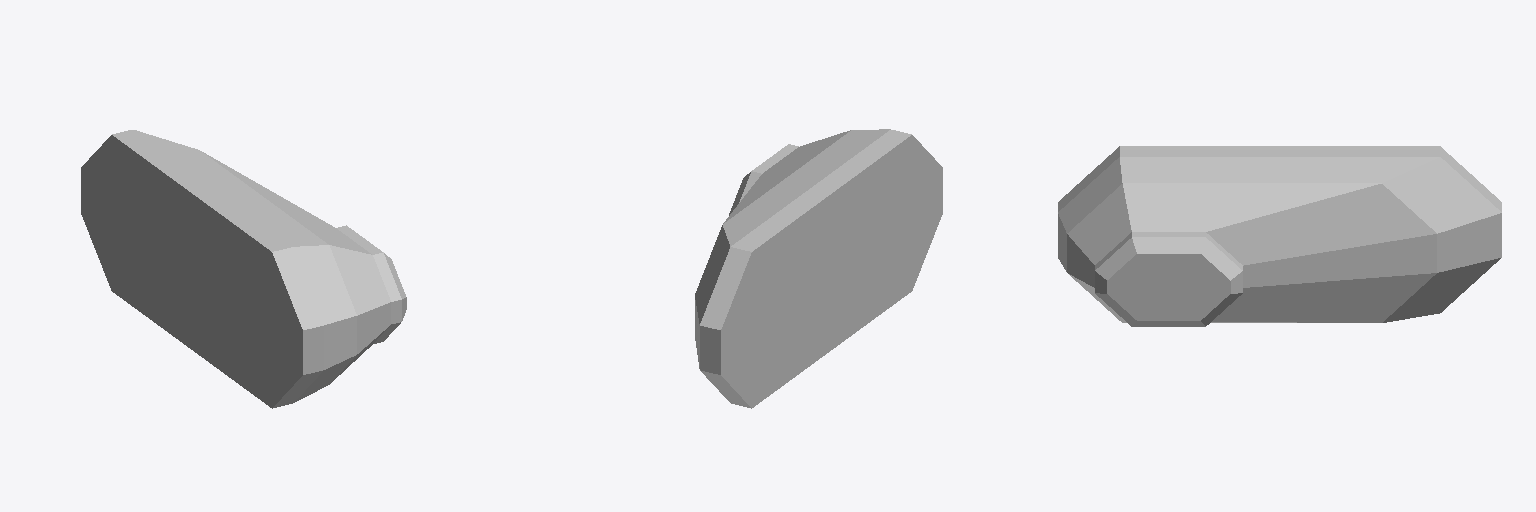
File: Spacestation_Structure_Rod_Housing_Long_Forward.obj
3 views of the same model, side by side, from view 1: azimuth 30°, elevation 25°; view 2: azimuth 150°, elevation 25°; view 3: azimuth 270°, elevation 25° (orthographic).
Visible parts, largest first — view 1: object2, object1; view 2: object2, object1; view 3: object2, object1.
Boxes of the visible parts, box(x1,y1,x2,y2) form: object2: box(81, 130, 390, 408); object1: box(337, 225, 406, 343); object2: box(695, 129, 942, 408); object1: box(729, 144, 798, 215); object2: box(1058, 146, 1501, 322); object1: box(1095, 232, 1242, 326).
Size of the model in its own units: 0.6 by 0.7 by 1.8.